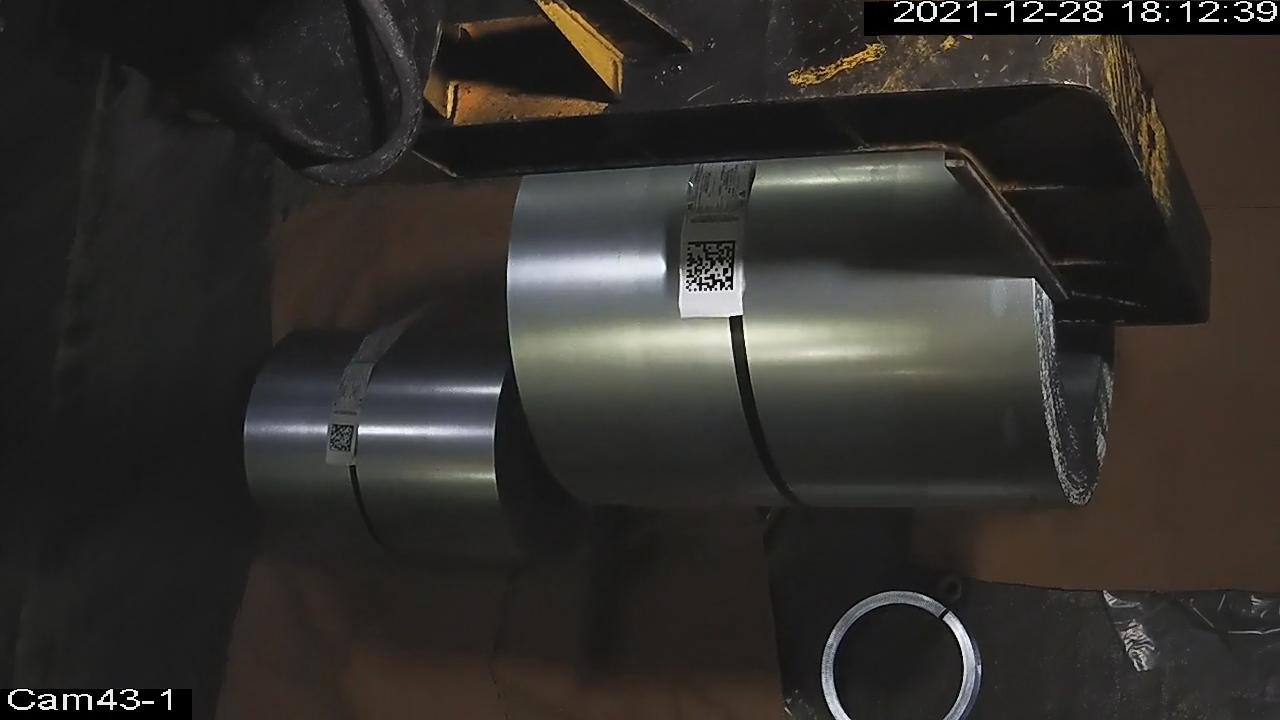data matrix: (683, 238, 739, 295), (328, 422, 357, 455)
